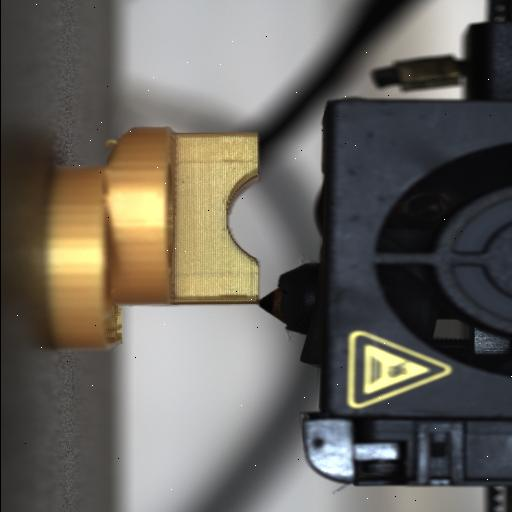layer_shift: (98, 131, 126, 352)
